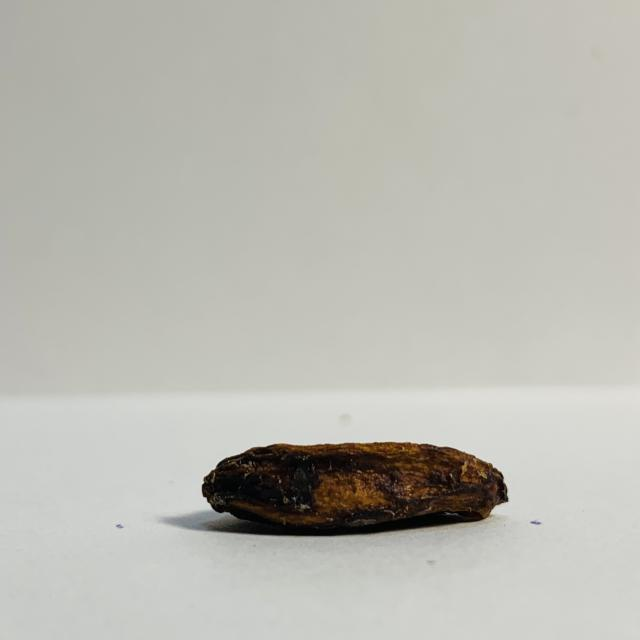Flat_cocoabeans: (109, 400, 572, 608)
